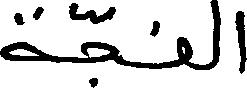X: (81, 2, 117, 87), (0, 2, 44, 65), (237, 6, 246, 78), (212, 0, 218, 87), (178, 32, 191, 72)
